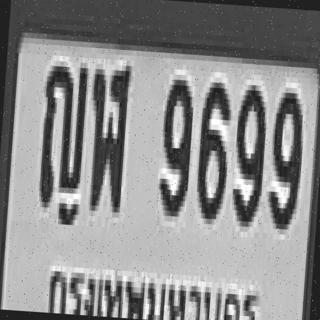A13: (37, 55, 87, 204)
A42: (84, 58, 130, 207)
N06: (193, 76, 231, 214)
N09: (229, 78, 267, 222), (264, 86, 302, 225), (156, 74, 193, 212)
